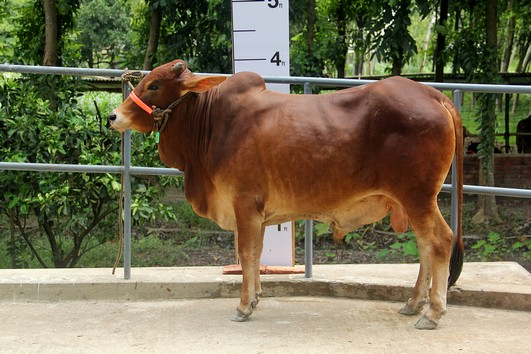cow: (101, 53, 468, 333)
